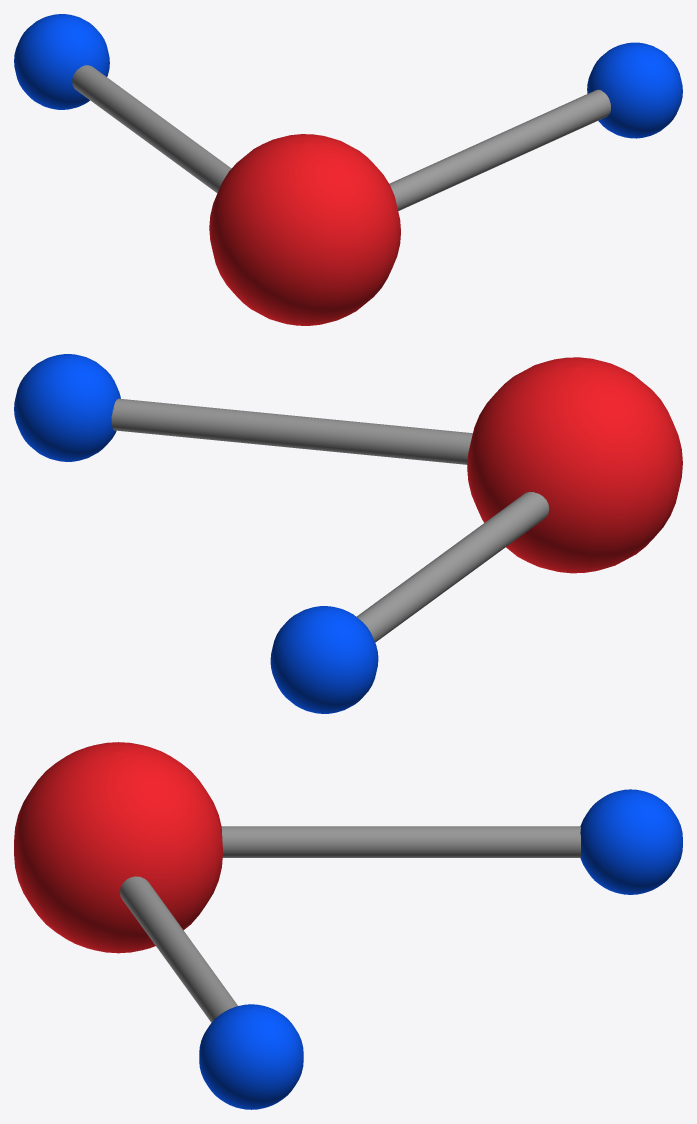
The picture shows the model from 3 angles, top to bottom: view 1: azimuth 30°, elevation 25°; view 2: azimuth 150°, elevation 25°; view 3: azimuth 270°, elevation 25°; orthographic projection. The views are drawn at different scales.
Visible parts, largest first — view 1: Сферы_Node (×3), Цилиндр_Node (×2); view 2: Сферы_Node (×3), Цилиндр_Node (×2); view 3: Сферы_Node (×3), Цилиндр_Node (×2).
Boxes of the visible parts, x1,y1,x2,y2 form: Сферы_Node (×3): (14, 14, 682, 325); Цилиндр_Node (×2): (72, 65, 610, 210); Сферы_Node (×3): (14, 354, 682, 713); Цилиндр_Node (×2): (111, 398, 549, 642); Сферы_Node (×3): (14, 742, 682, 1109); Цилиндр_Node (×2): (120, 826, 580, 1022).
Size of the model in its own units: 2.44 by 0.7874 by 2.49.
Materials: 4 (2 with a texture image).
